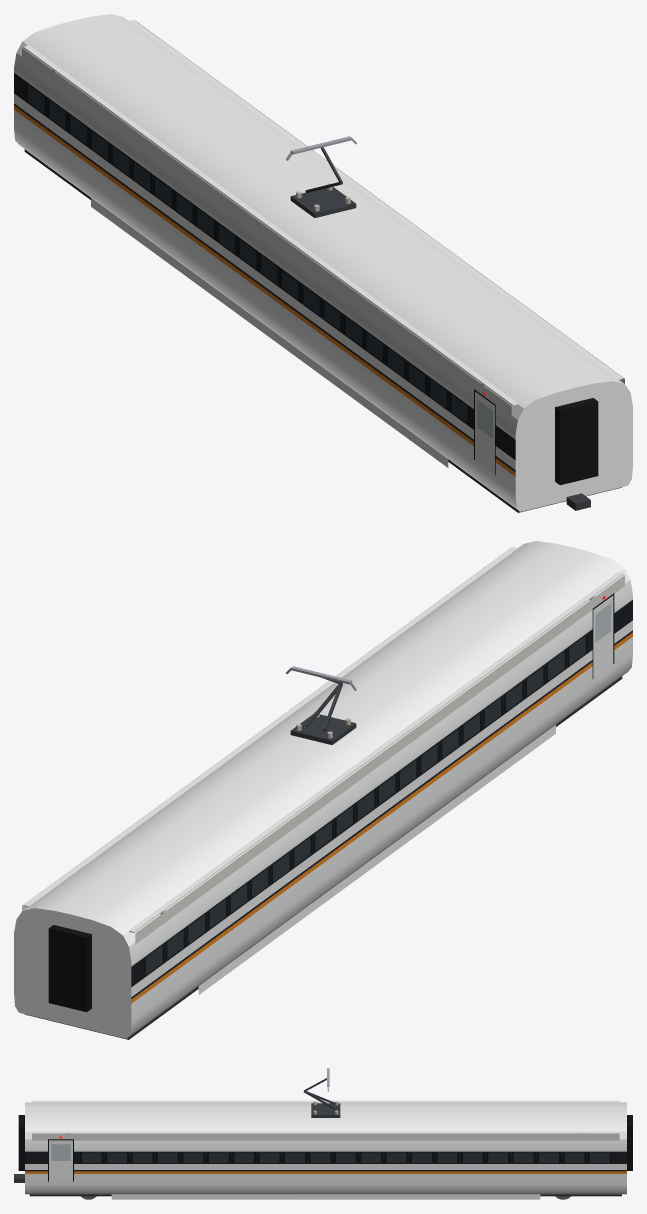
Rendered from thsr-700t-middle.glb.
3 renders of one model, top to bottom at view 1: azimuth 30°, elevation 25°; view 2: azimuth 150°, elevation 25°; view 3: azimuth 270°, elevation 25°, orthographic. The views are drawn at different scales.
Visible parts, largest first — view 1: THSR700T_Middle; view 2: THSR700T_Middle; view 3: THSR700T_Middle.
Boxes of the visible parts, x1=… form: THSR700T_Middle: x1=14, y1=14, x2=632, y2=512; THSR700T_Middle: x1=14, y1=541, x2=632, y2=1039; THSR700T_Middle: x1=14, y1=1068, x2=632, y2=1199.
Size of the model in its own units: 3.46 by 5.25 by 25.7.
